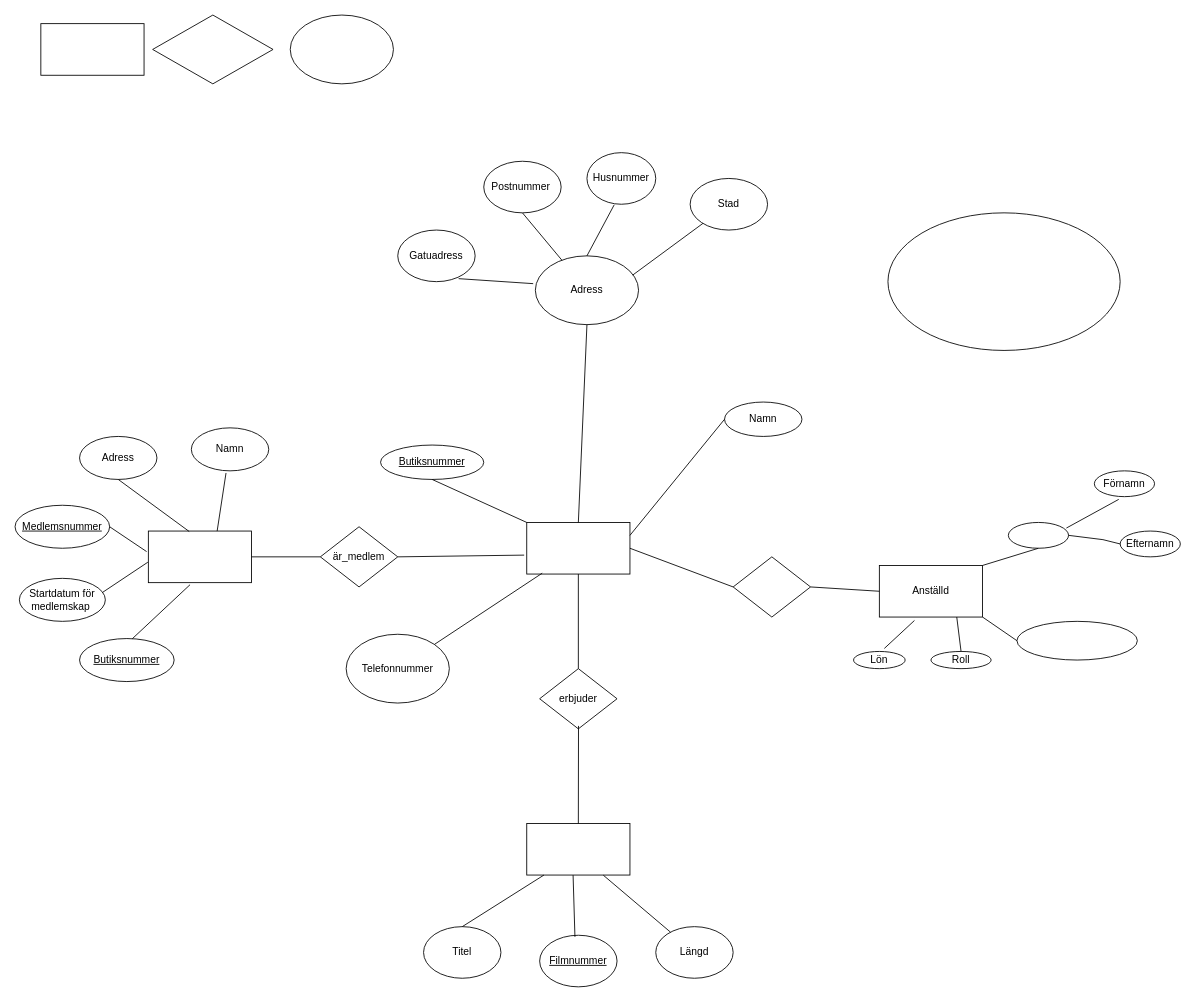
This 1195x1002 diagram has some shape labels left out. Here are the shapes that lost their labels. From the top down, the centre of each, then its label:
(92,49): Entinty
(212,49): Action
(341,49): Attribute
(1003,281): 6/9 kl 16:51
(578,548): Butik
(1038,535): NamnID
(199,556): Medlem
(771,586): är_anställd
(1076,640): Anställningsnummer
(578,849): Filmer
